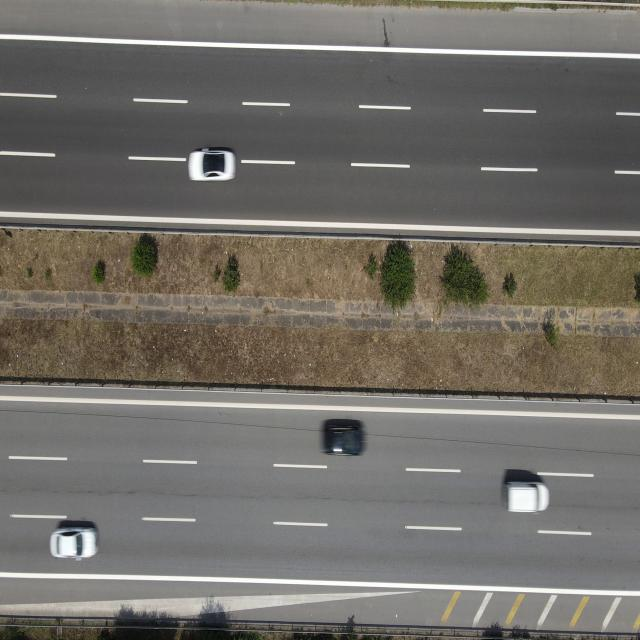vehicle: (188, 148, 236, 182), (50, 526, 98, 560), (504, 481, 550, 513), (322, 422, 363, 455)
